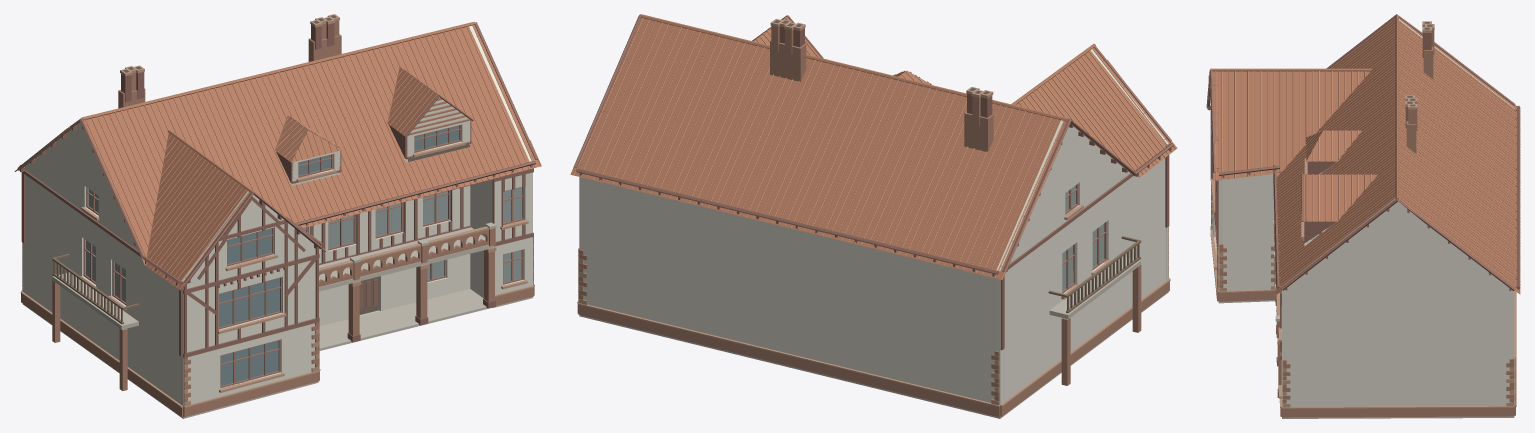
File: xuhui-caldbeck-manager-residence-lod.glb
3 views of the same model, side by side, from view 1: azimuth 30°, elevation 25°; view 2: azimuth 150°, elevation 25°; view 3: azimuth 270°, elevation 25° (orthographic). The views are drawn at different scales.
Visible parts, largest first — view 1: 武康路99号正广和大班住宅; view 2: 武康路99号正广和大班住宅; view 3: 武康路99号正广和大班住宅.
Part boxes in pixels (box(x1,y1,x2,y2)): 武康路99号正广和大班住宅: box(14, 14, 541, 418); 武康路99号正广和大班住宅: box(570, 14, 1177, 418); 武康路99号正广和大班住宅: box(1206, 14, 1520, 418).
Bounding box in the file's own units: 22.31 × 13.66 × 15.43.
